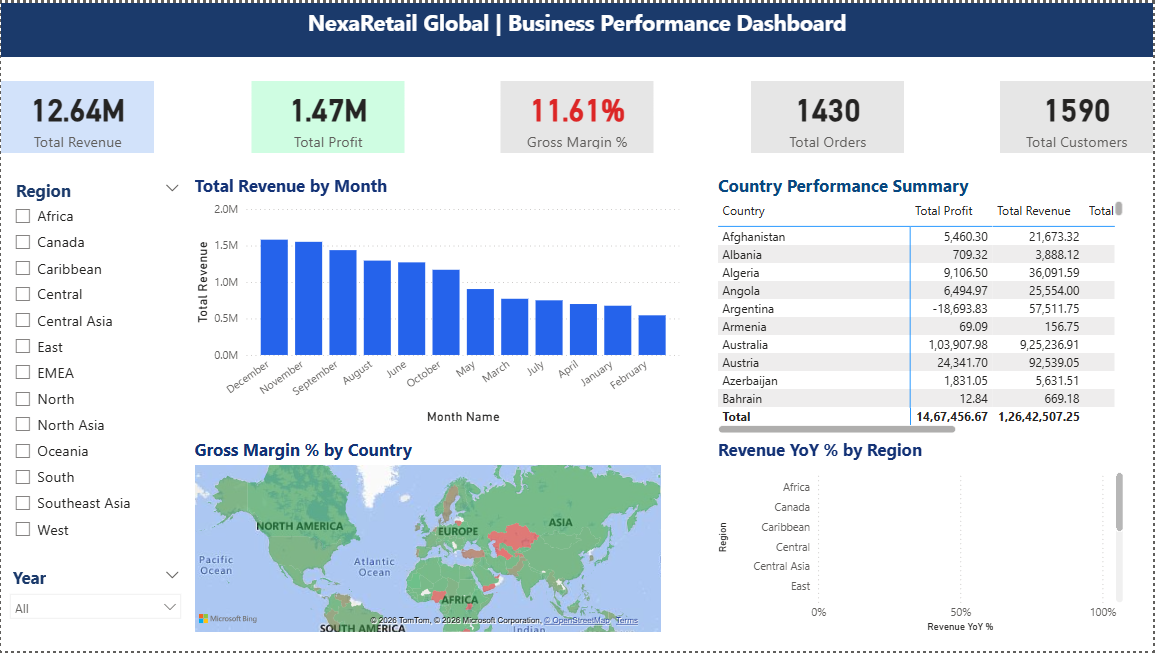

The page's visual inventory and layout, read from the dashboard file:
{"tool":"powerbi","page":{"name":"Regional Performance","canvas":[1280,720],"ordinal":1},"visuals":[{"type":"slicer","fields":{"Values":["orders_cleaned.Region"]},"box":[3.3,190,206.7,430],"z":0},{"type":"slicer","fields":{"Values":["DateTable.Year"]},"box":[0,620,210,100],"z":1000},{"type":"card","fields":{"Values":["_Measures.Total Revenue"]},"box":[0,86.7,170,80],"z":2000},{"type":"card","fields":{"Values":["_Measures.Total Customers"]},"box":[1110,86.7,170,80],"z":3000},{"type":"card","fields":{"Values":["_Measures.Total Orders"]},"box":[832.5,86.7,170,80],"z":4000},{"type":"card","fields":{"Values":["_Measures.Total Profit"]},"box":[277.5,86.7,170,80],"z":6000},{"type":"clusteredColumnChart","title":"Total Revenue by Month","fields":{"Category":["DateTable.Month Name"],"Y":["_Measures.Total Revenue"]},"box":[210.5,189.4,548.9,281.7],"z":7000},{"type":"pivotTable","title":"Country Performance Summary","fields":{"Rows":["orders_cleaned.Country"],"Values":["_Measures.Total Profit","_Measures.Total Revenue","_Measures.Total Orders","_Measures.Gross Margin %"]},"box":[791.8,189.4,459.9,293.1],"z":8000},{"type":"clusteredBarChart","fields":{"Category":["orders_cleaned.Region"],"Y":["_Measures.Revenue YoY %"]},"box":[791.8,482.5,459.9,220.2],"z":9000},{"type":"textbox","box":[0,0,1280,60],"z":10000},{"type":"filledMap","fields":{"Category":["orders_cleaned.Country"]},"box":[210.5,482.5,527.9,220.2],"z":11000},{"type":"card","fields":{"Values":["_Measures.Gross Margin %"]},"box":[555,86.7,170,80],"z":11001}]}

Visuals, with their boxes in screenshot pixels (x1, y1, x2, y2), scaled from the page's 1280x720 canvas onto the 1155x653 screenshot:
slicer - orders_cleaned.Region: <box>3,172,189,562</box>
slicer - DateTable.Year: <box>0,562,189,652</box>
card - _Measures.Total Revenue: <box>0,79,153,151</box>
card - _Measures.Total Customers: <box>1002,79,1154,151</box>
card - _Measures.Total Orders: <box>751,79,905,151</box>
card - _Measures.Total Profit: <box>250,79,404,151</box>
"Total Revenue by Month" clusteredColumnChart: <box>190,172,685,427</box>
"Country Performance Summary" pivotTable: <box>714,172,1129,438</box>
clusteredBarChart - orders_cleaned.Region x _Measures.Revenue YoY %: <box>714,438,1129,637</box>
textbox: <box>0,0,1154,54</box>
filledMap - orders_cleaned.Country: <box>190,438,666,637</box>
card - _Measures.Gross Margin %: <box>501,79,654,151</box>
